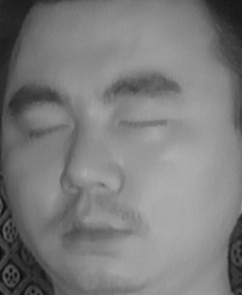blink: (116, 105, 171, 145), (21, 112, 72, 150)
mouth: (51, 203, 138, 260)
